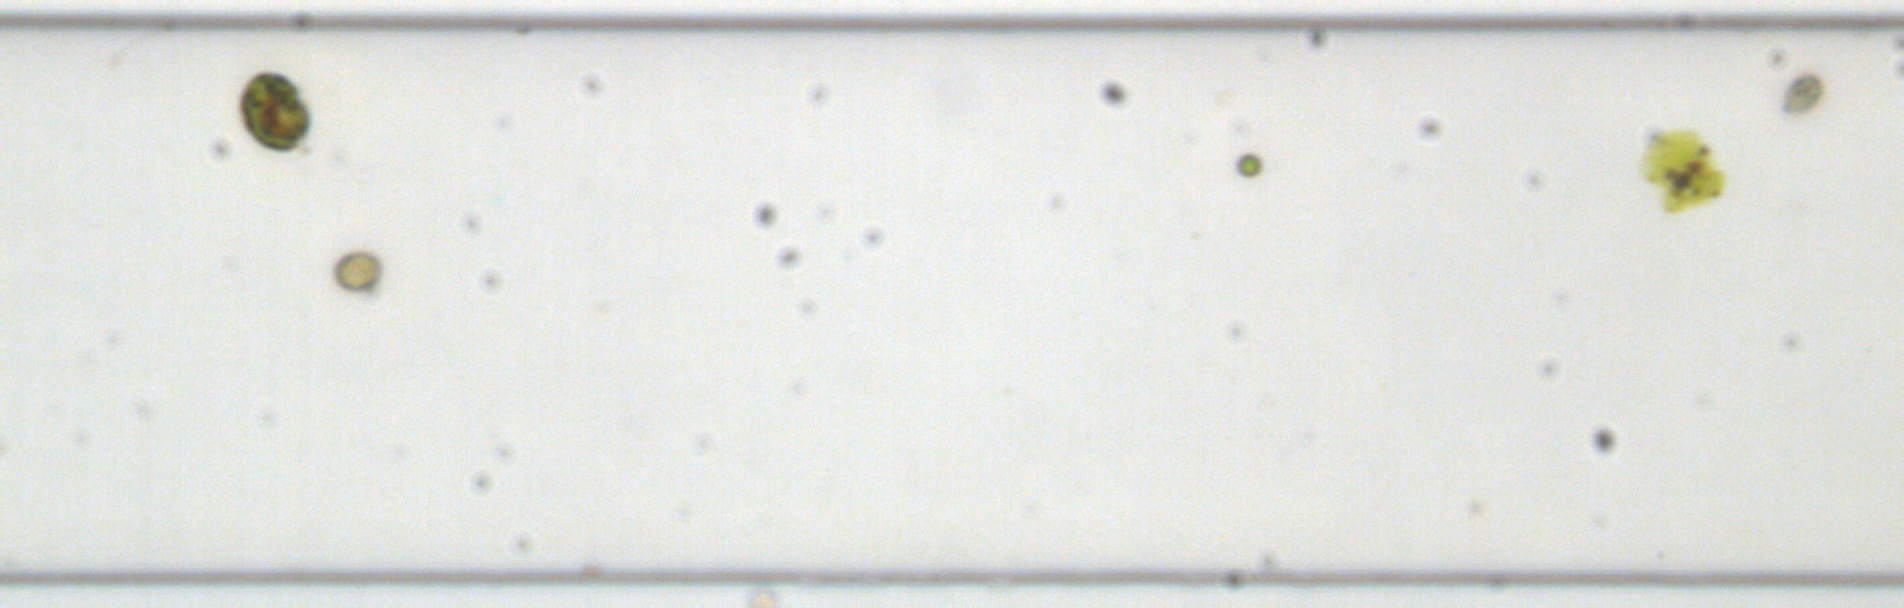Chlorella: (1234, 150, 1262, 178)
Dunaliella salina: (1775, 69, 1825, 117)
Effrenium: (328, 248, 386, 292)
Haematococcus: (1632, 127, 1725, 214), (233, 67, 314, 155)
